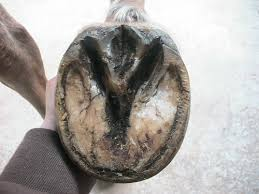horsesole: (55, 37, 191, 183)
